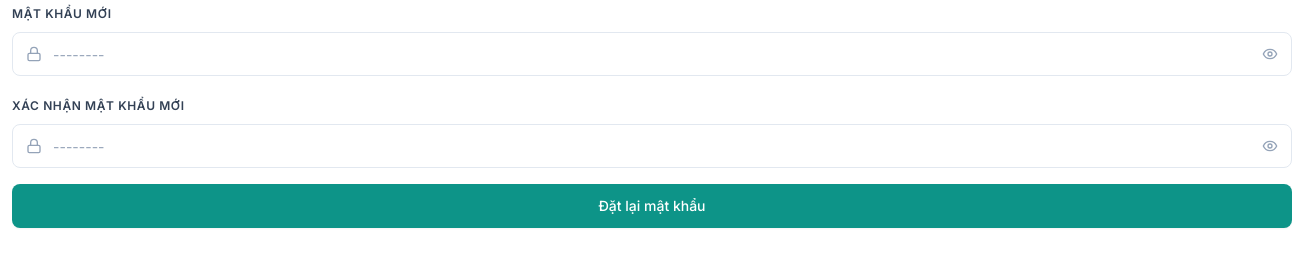
Scenario: ResetPasswordForm › displays validation error when password lacks character complexity
The width and height of the screenshot is (1304, 269).
Missing special character
Type "SimplePass123" into the password field labelled "Mật khẩu mới".
click(652, 54); type("SimplePass123")  # box [12,32,1292,76]
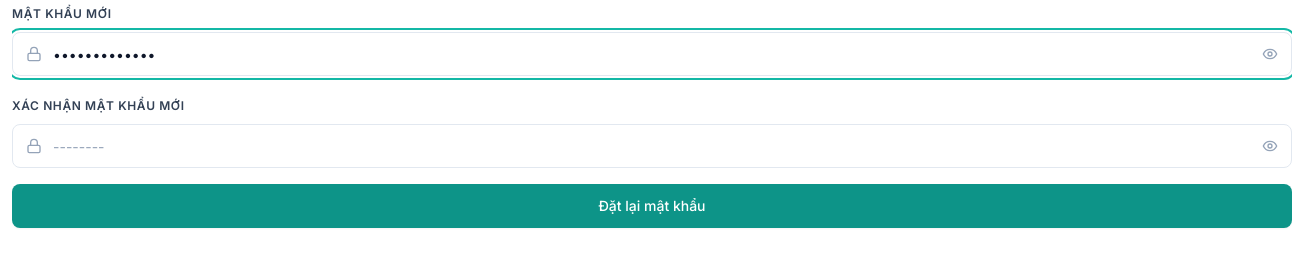
Type "SimplePass123" into the password field labelled "Xác nhận mật khẩu mới".
click(652, 146); type("SimplePass123")  # box [12,124,1292,168]
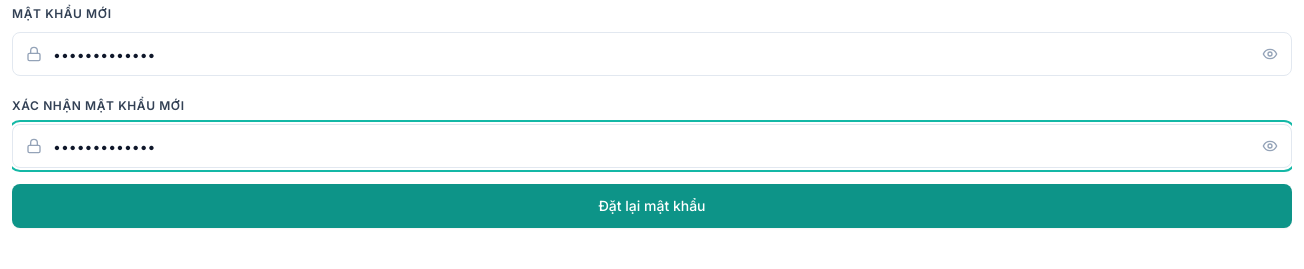
Click the button "Đặt lại mật khẩu".
click(652, 206)  # box [12,184,1292,228]
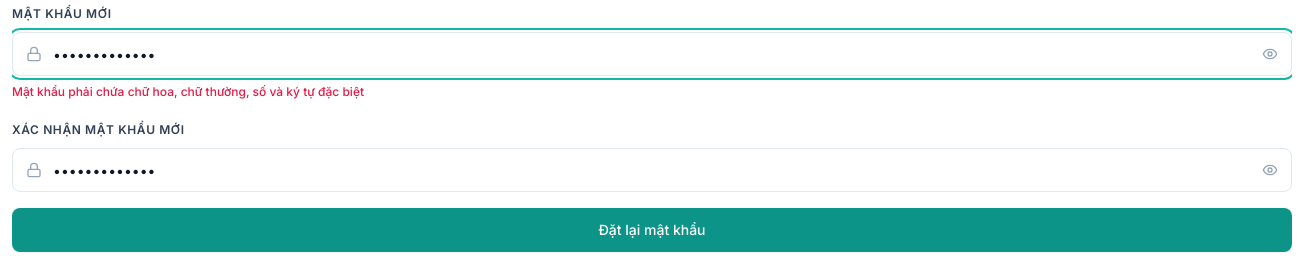
Expected: the text "Mật khẩu phải chứa chữ hoa, chữ thường, số và ký tự đặc biệt" is shown, [12,84,364,99]
